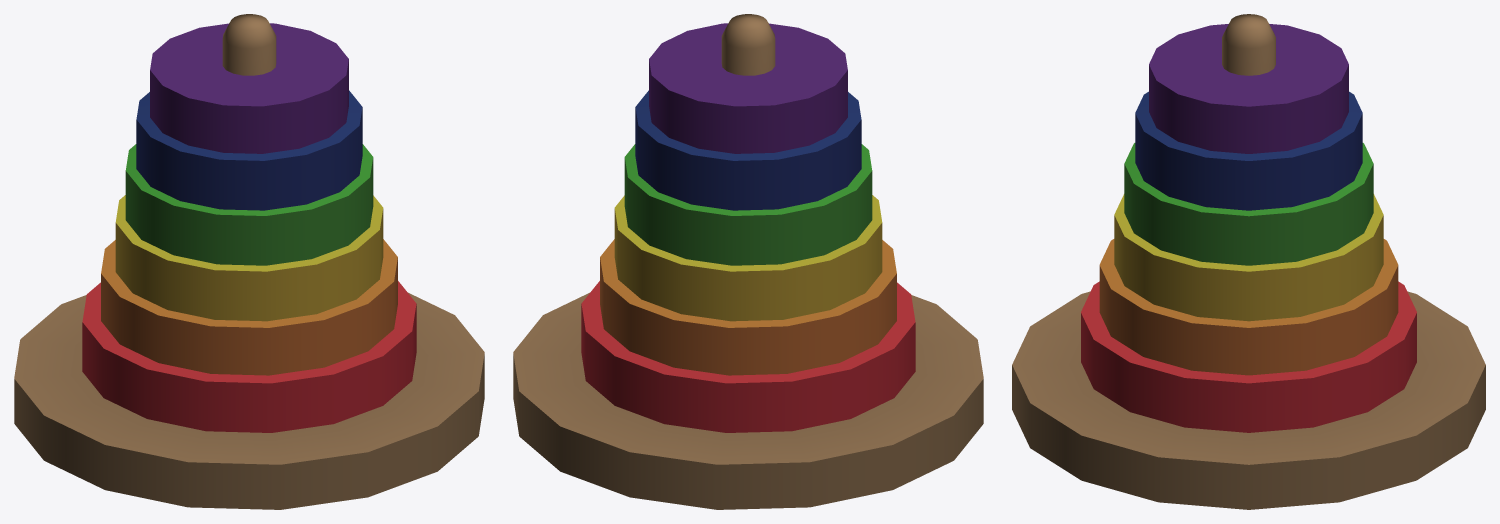
File: human-toys-stacking-toy_v1.fbx
3 views of the same model, side by side, from view 1: azimuth 30°, elevation 25°; view 2: azimuth 150°, elevation 25°; view 3: azimuth 270°, elevation 25° (orthographic).
Visible parts, largest first — view 1: Stacking Toy_v1; view 2: Stacking Toy_v1; view 3: Stacking Toy_v1.
Part boxes in pixels (x1,y1,x2,y2): Stacking Toy_v1: (14,14,484,509); Stacking Toy_v1: (513,14,983,509); Stacking Toy_v1: (1012,14,1485,509).
Size of the model in its own units: 0.2 by 0.1821 by 0.2.
